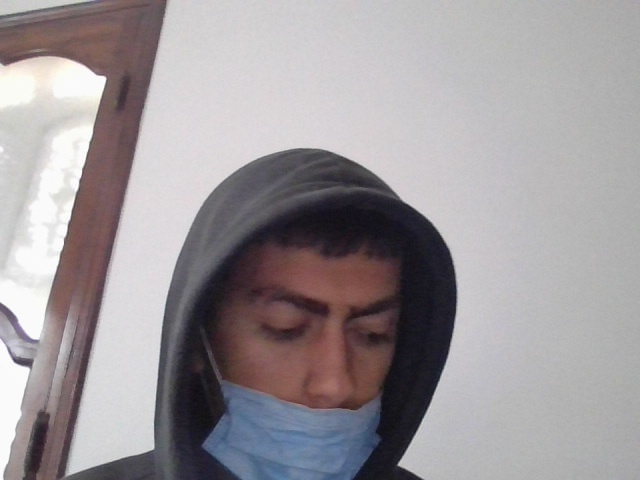mask_weared_incorrect: (198, 226, 408, 480)
